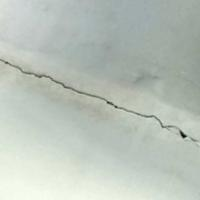crack: (1, 51, 199, 148)
